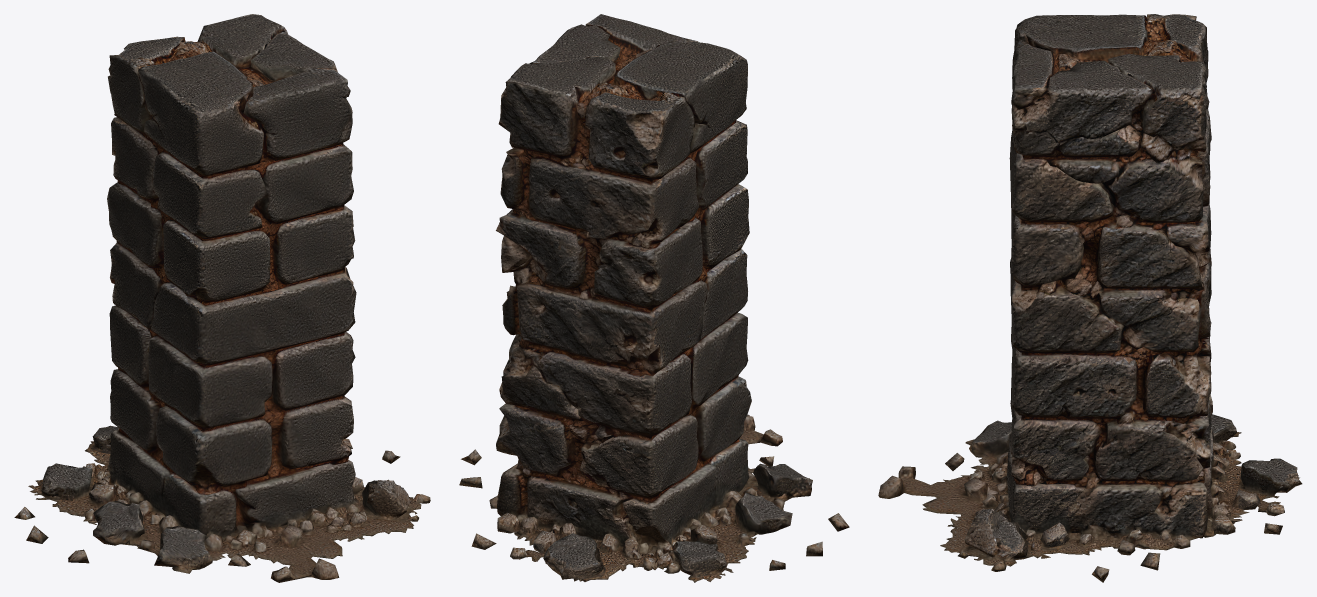
The model's file is pillar.glb.
The picture shows the model from 3 angles, left to right: view 1: azimuth 30°, elevation 25°; view 2: azimuth 150°, elevation 25°; view 3: azimuth 270°, elevation 25°; orthographic projection. The views are drawn at different scales.
Visible parts, largest first — view 1: tripo_node_0e6a3382-35c1-4fab-8ca2-868f17a059c9; view 2: tripo_node_0e6a3382-35c1-4fab-8ca2-868f17a059c9; view 3: tripo_node_0e6a3382-35c1-4fab-8ca2-868f17a059c9.
Part boxes in pixels (x1,y1,x2,y2): tripo_node_0e6a3382-35c1-4fab-8ca2-868f17a059c9: [14, 14, 430, 582]; tripo_node_0e6a3382-35c1-4fab-8ca2-868f17a059c9: [459, 14, 849, 582]; tripo_node_0e6a3382-35c1-4fab-8ca2-868f17a059c9: [878, 14, 1302, 582].
Bounding box in the file's own units: 0.8785 × 1 × 0.8525.
Materials: 1 (1 with a texture image).
